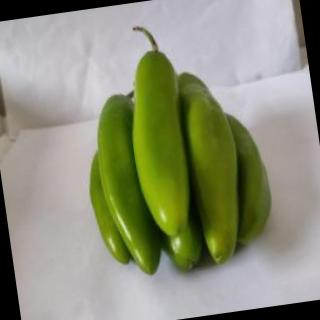Cabai Hijau: (115, 17, 203, 245)
